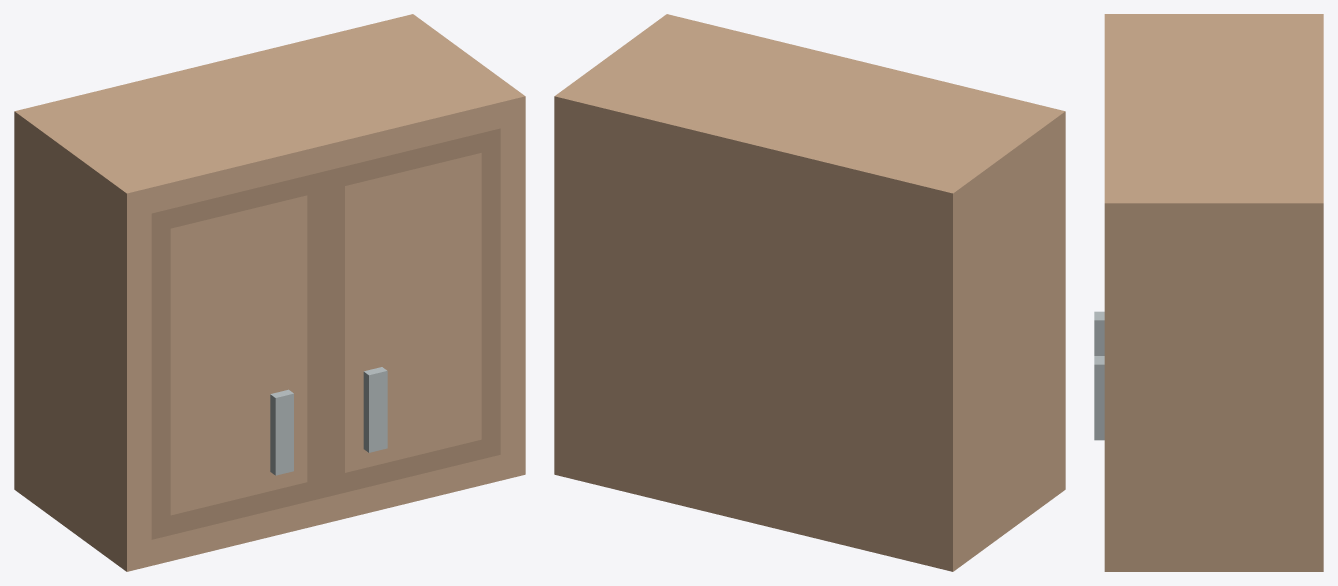
Rendered from kitchenCabinetUpperDouble.glb.
3 renders of one model, left to right at view 1: azimuth 30°, elevation 25°; view 2: azimuth 150°, elevation 25°; view 3: azimuth 270°, elevation 25°, orthographic. The views are drawn at different scales.
Visible parts, largest first — view 1: kitchenCabinetUpperDouble; view 2: kitchenCabinetUpperDouble; view 3: kitchenCabinetUpperDouble.
Part boxes in pixels (x1=…): kitchenCabinetUpperDouble: x1=14, y1=14, x2=525, y2=571; kitchenCabinetUpperDouble: x1=554, y1=14, x2=1065, y2=571; kitchenCabinetUpperDouble: x1=1094, y1=14, x2=1323, y2=571.
Bounding box in the file's own units: 0.43 × 0.39 × 0.22.
